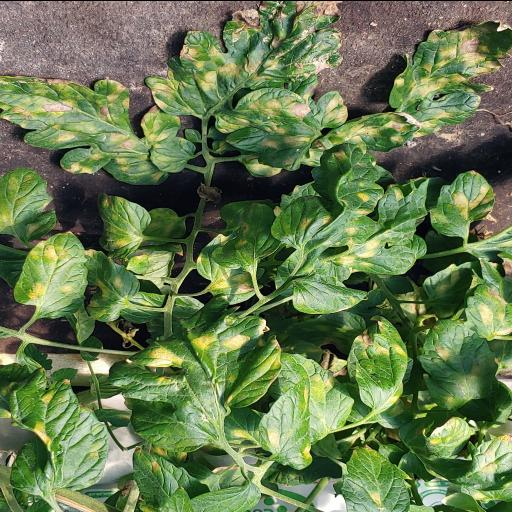Leaf Mold: (108, 294, 282, 451), (144, 0, 344, 114), (269, 142, 429, 284), (0, 75, 172, 185), (386, 21, 512, 137), (6, 368, 109, 496), (346, 314, 414, 428), (416, 318, 499, 408), (13, 230, 88, 318), (430, 169, 496, 236)
